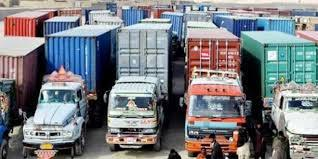Person: (208, 133, 224, 159)
Truck: (23, 23, 119, 157), (241, 30, 318, 157), (184, 28, 250, 158), (107, 23, 171, 150)
